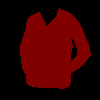felpa: (20, 8, 90, 88)
